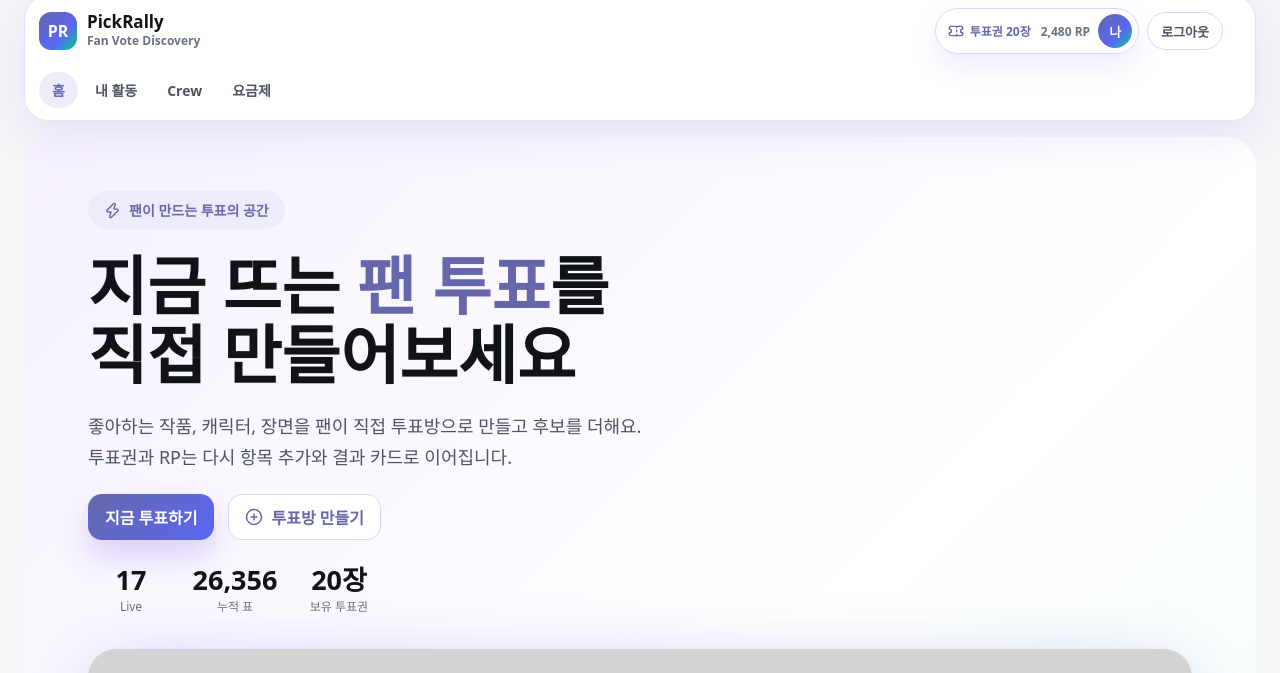
Test: PickRally app shell › shows creation validation errors for officiality phrases and too few candidates
Click the link "투표방 만들기" at (305, 517), box [228,494,381,540]
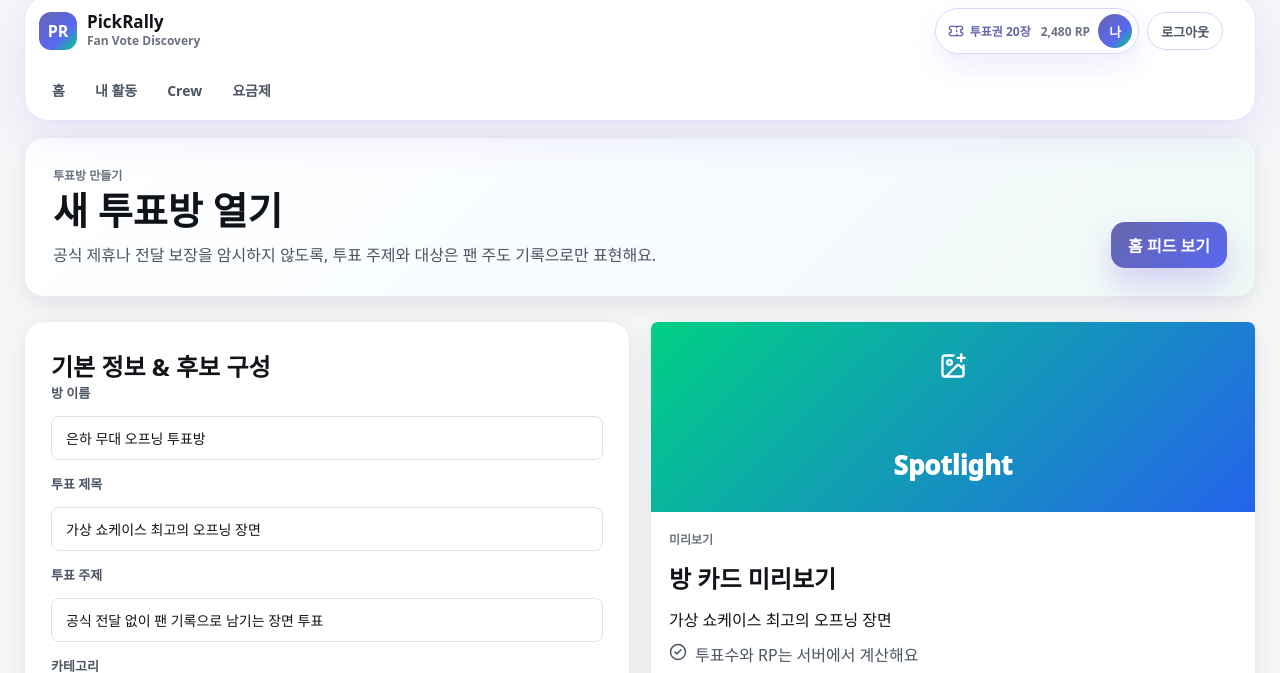
Replace the text in the field labelled "투표 주제" with "공식 인증 후 소속사 전달 보장" at (327, 620), box [51,598,603,642]
(page scrolled)
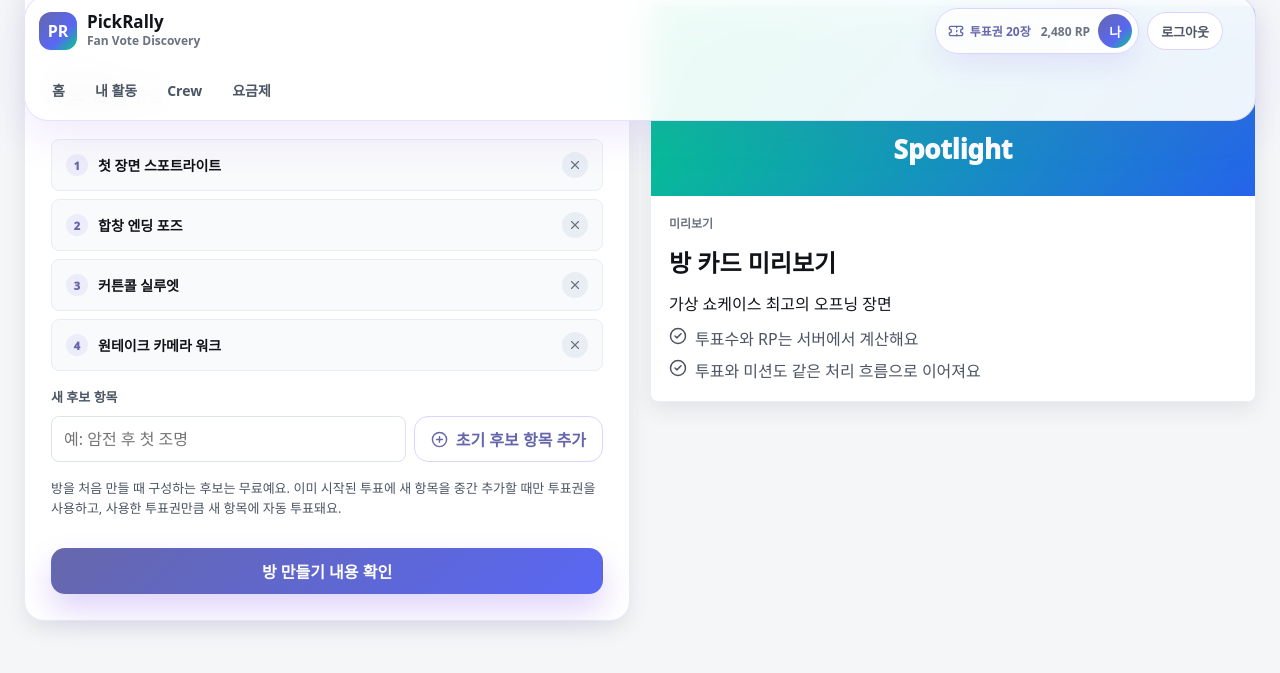
Click the button named "후보 4 삭제" at (575, 345), box [562,332,588,358]
(page scrolled)
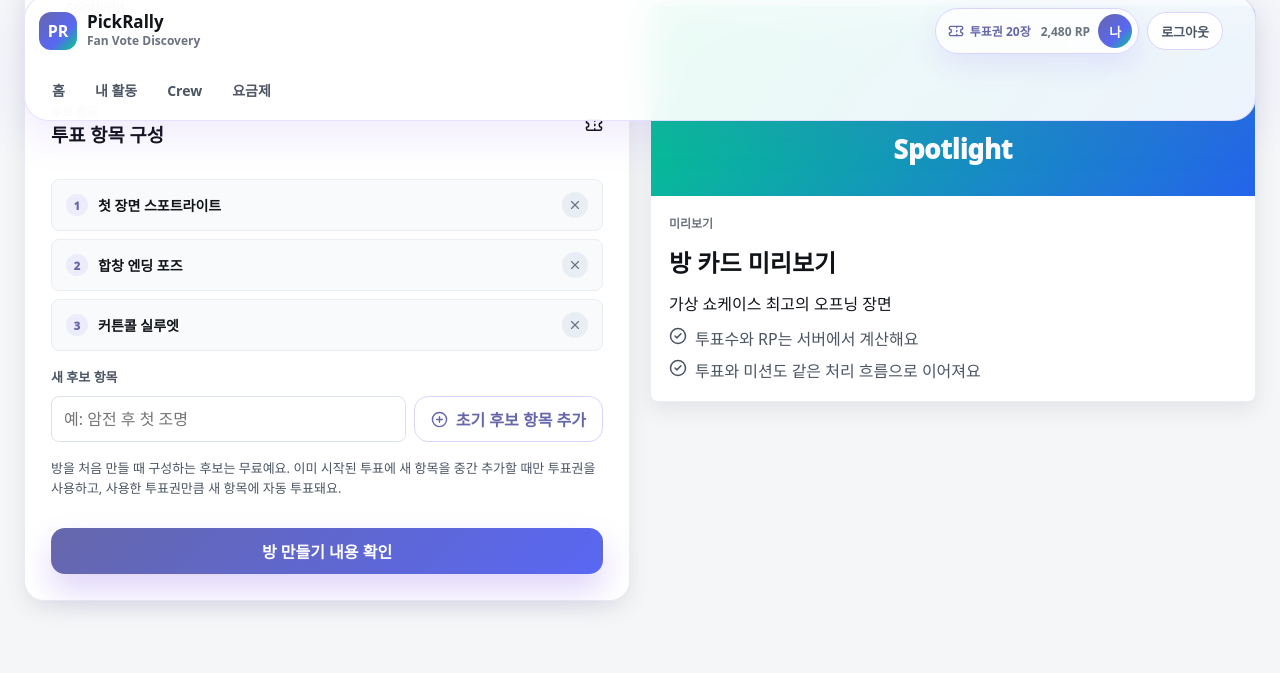
Click the button named "후보 3 삭제" at (575, 325), box [562,312,588,338]
(page scrolled)
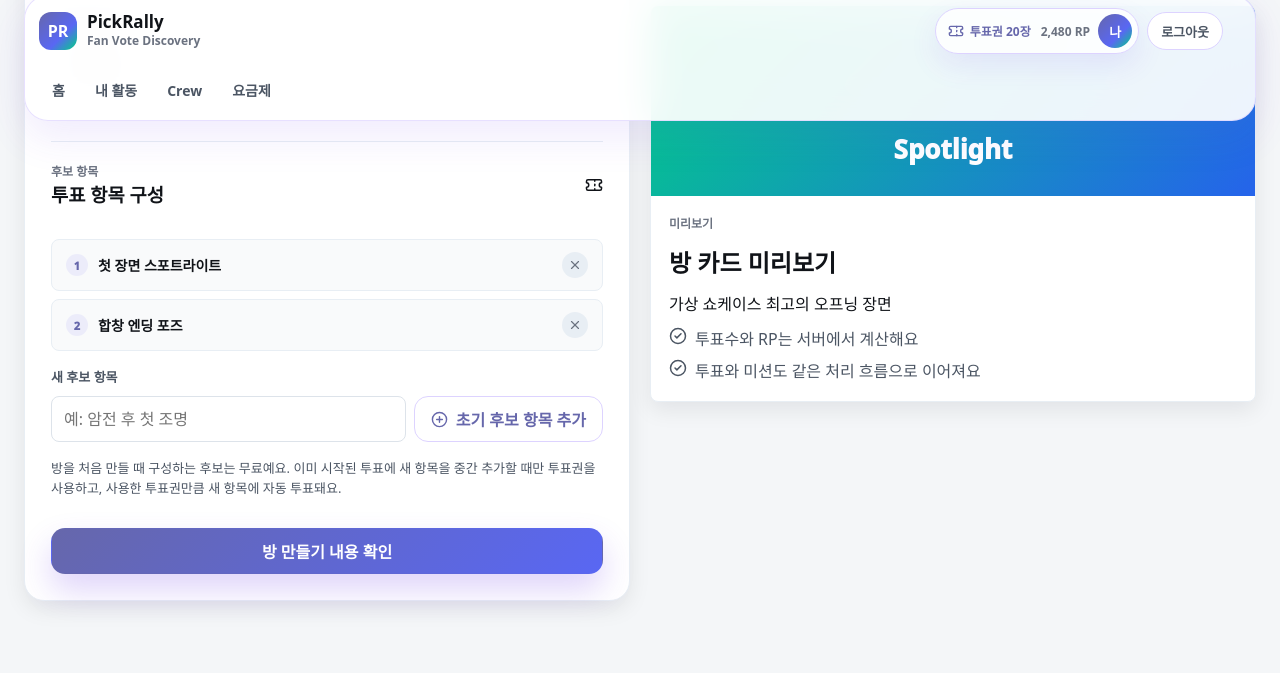
Click the button named "후보 2 삭제" at (575, 325), box [562,312,588,338]
(page scrolled)
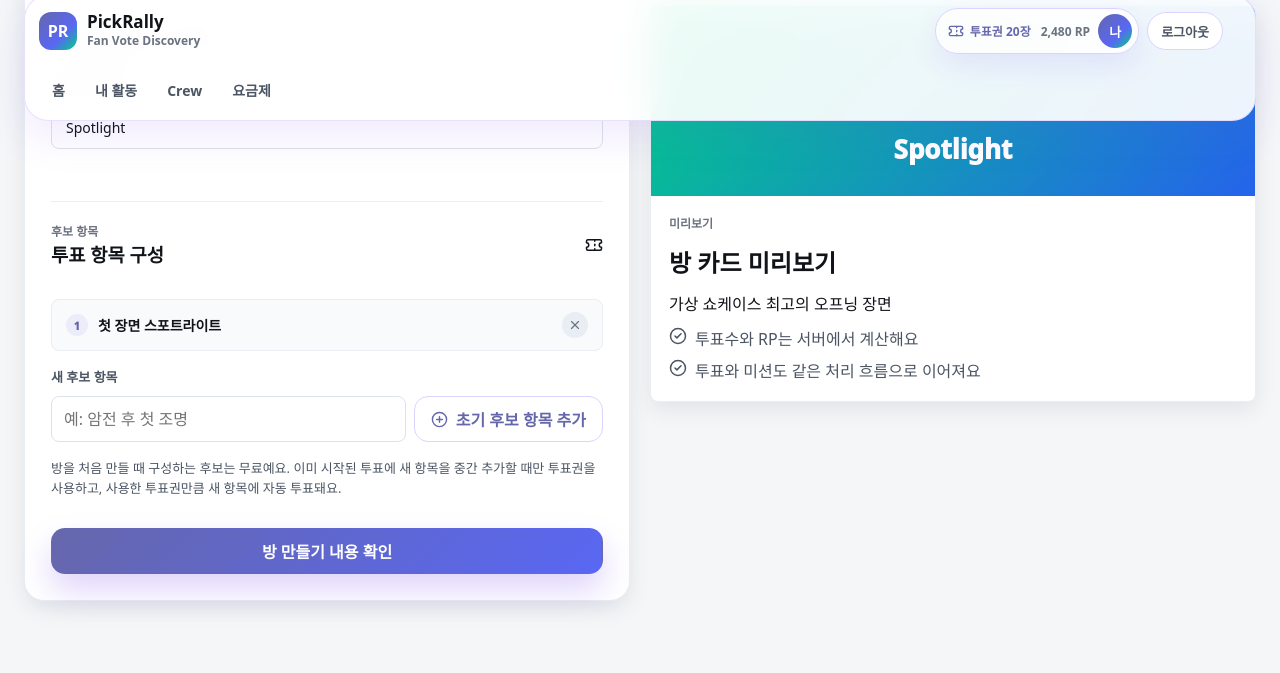
Click the button "방 만들기 내용 확인" at (327, 552), box [51,528,603,574]
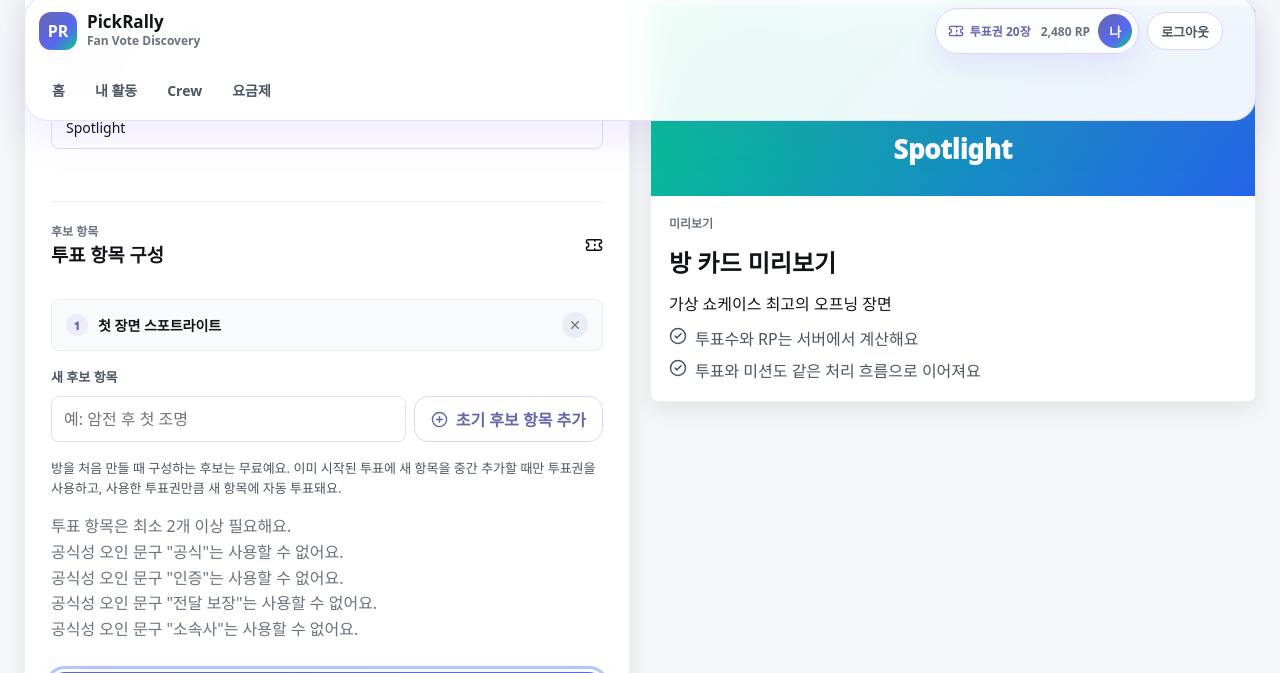
Result: the message shows "공식" at [51,516,377,640]
Result: the message shows "전달 보장" at [51,592,377,614]
Result: the message shows "투표 항목은 최소 2개 이상 필요해요." at [51,516,291,538]
